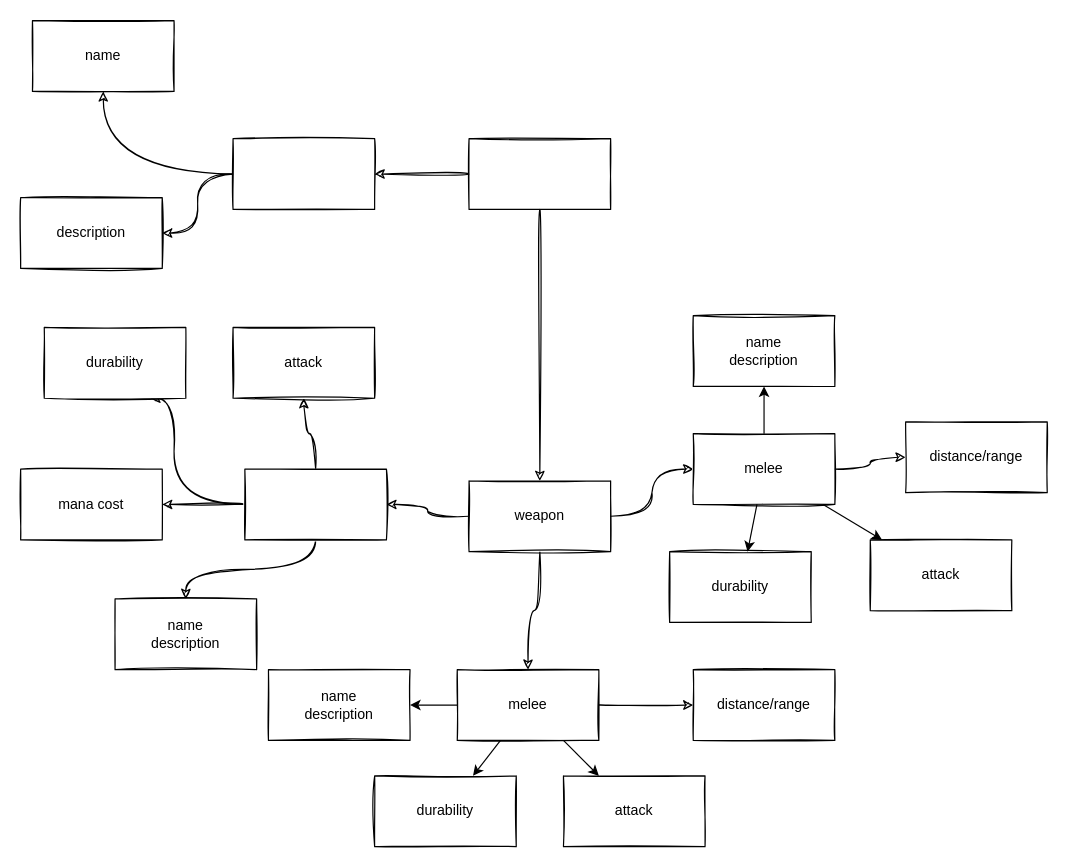
Some shapes in this 1068 by 867 pixel diagram are drawn without their labels. The shapes that lost their labels are listed below. From the top down, each one's centre as x and y in pixels, then its label:
At (303,173): "normal".
At (539,173): "ITEM SYSTEM".
At (315,504): "magic".
